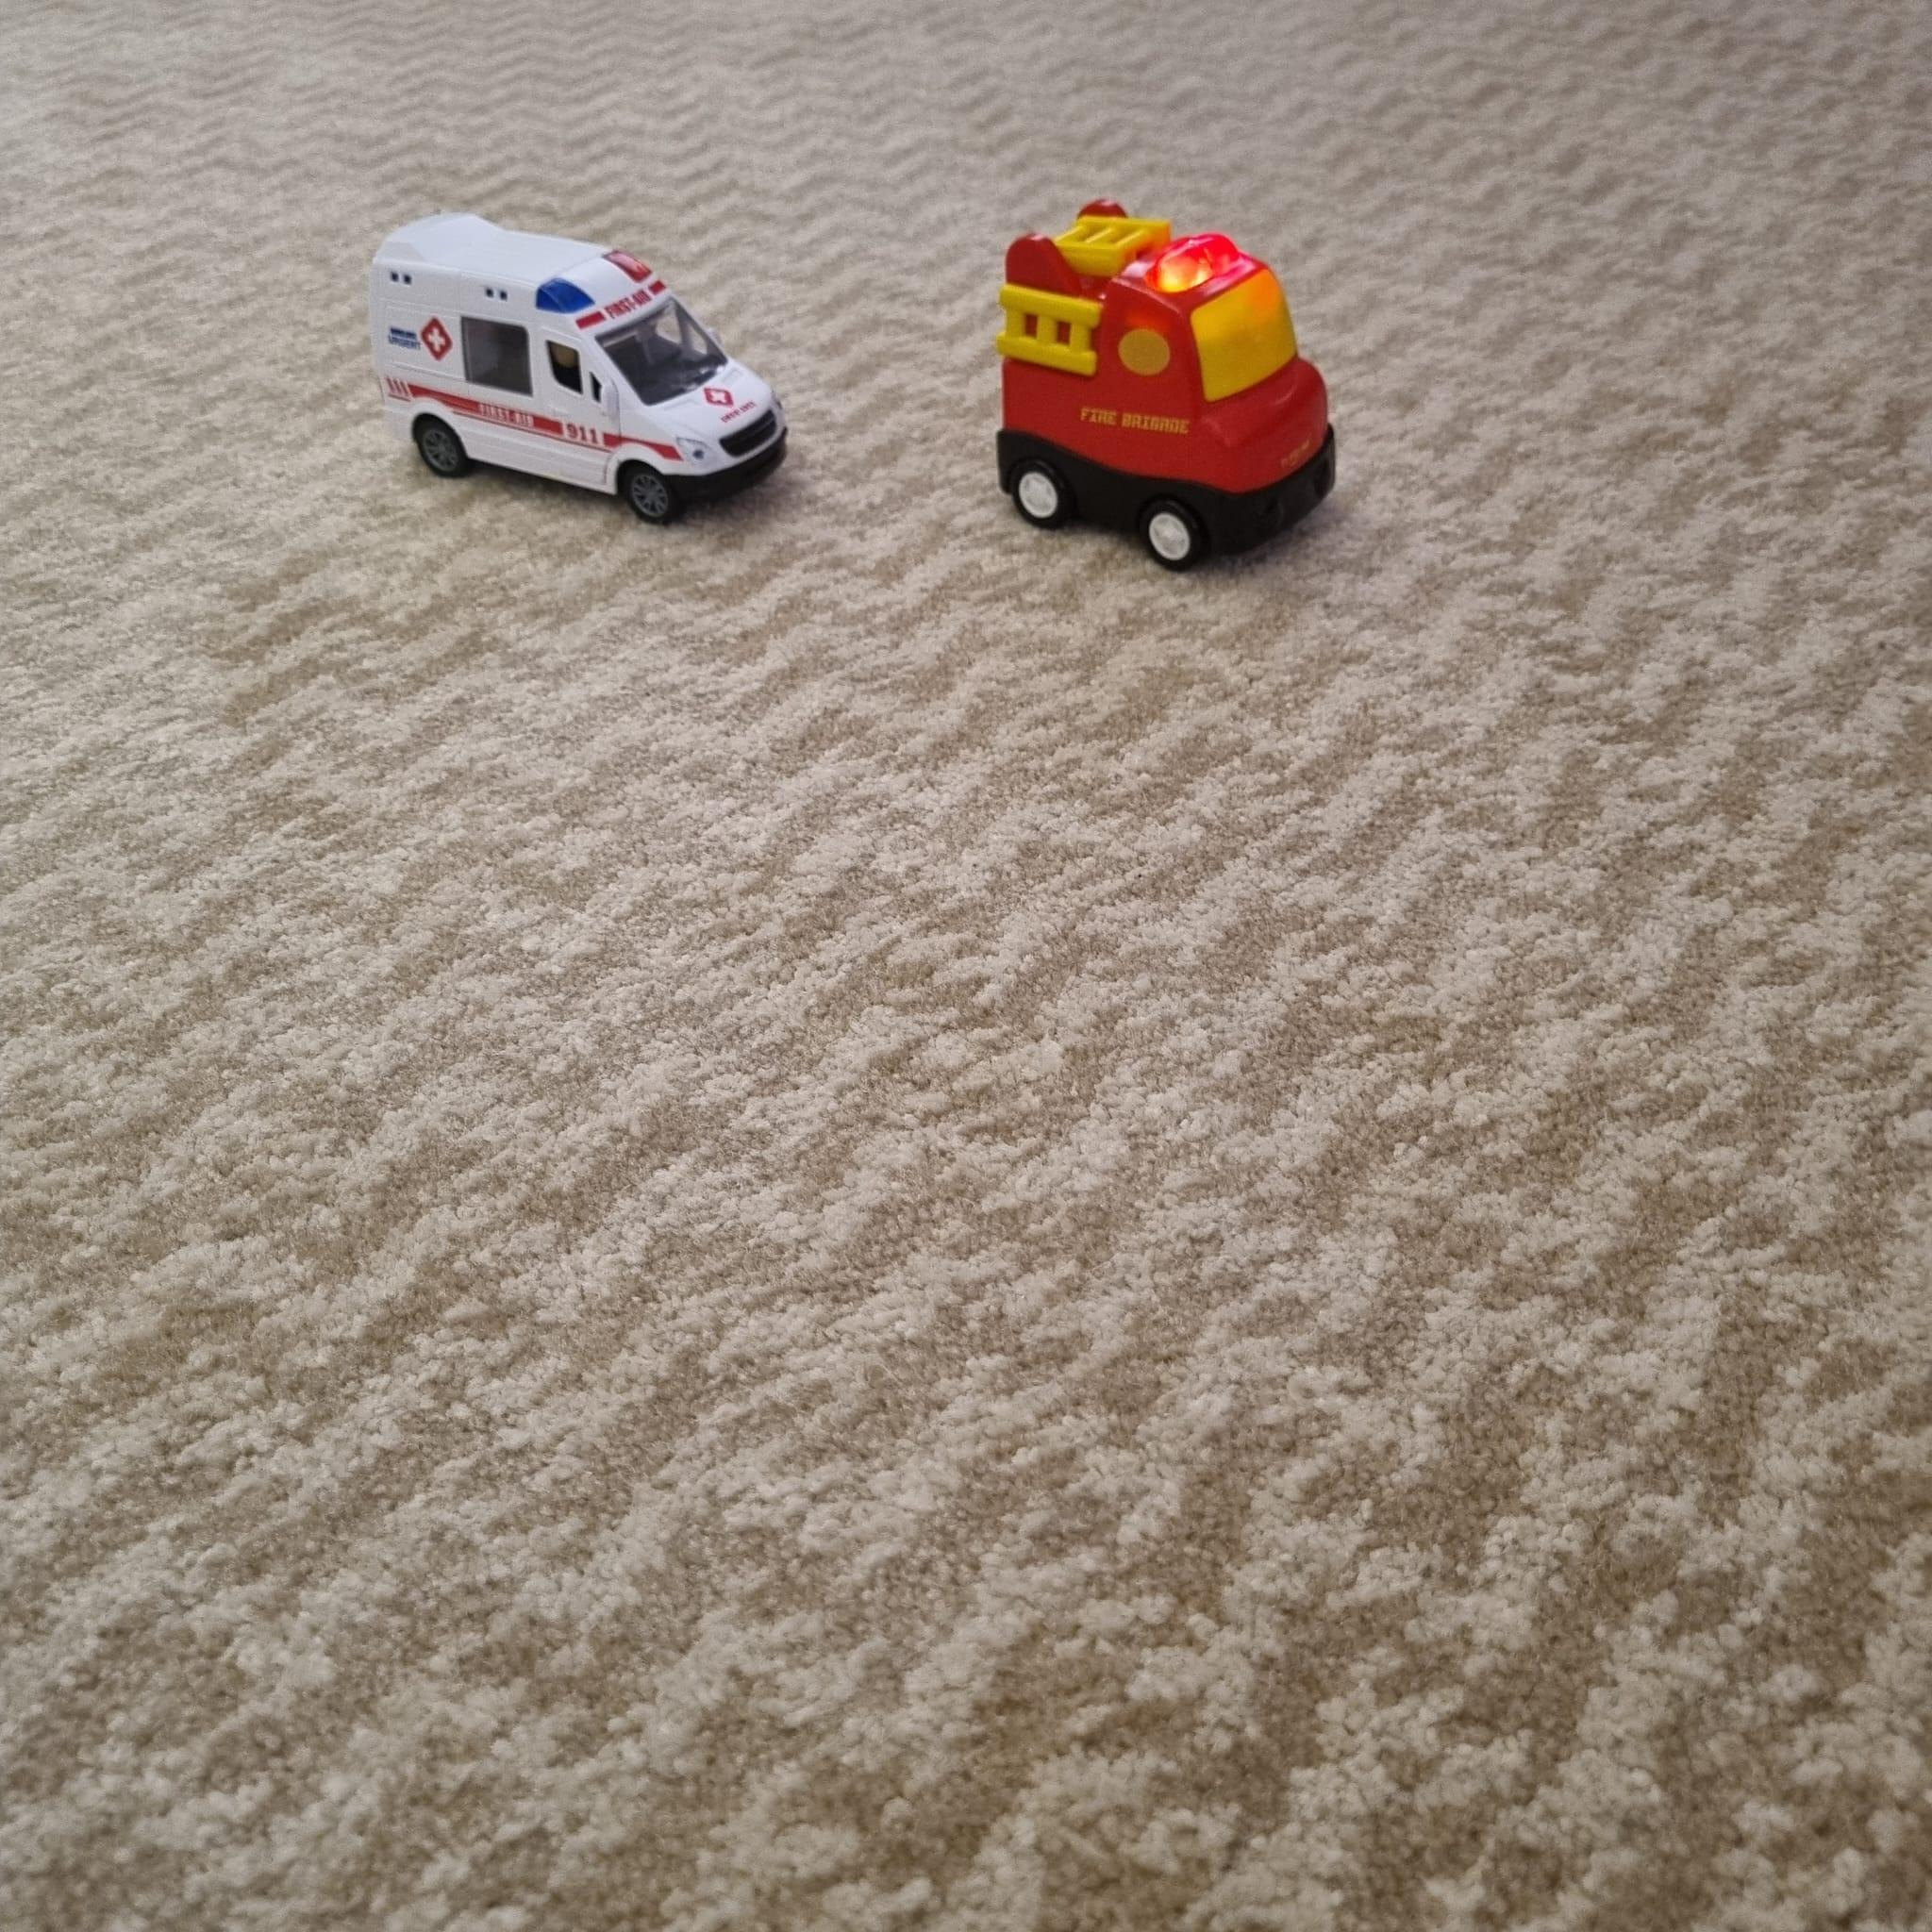ambulance_off: (373, 200, 796, 531)
firetruck_on: (996, 189, 1336, 568)
